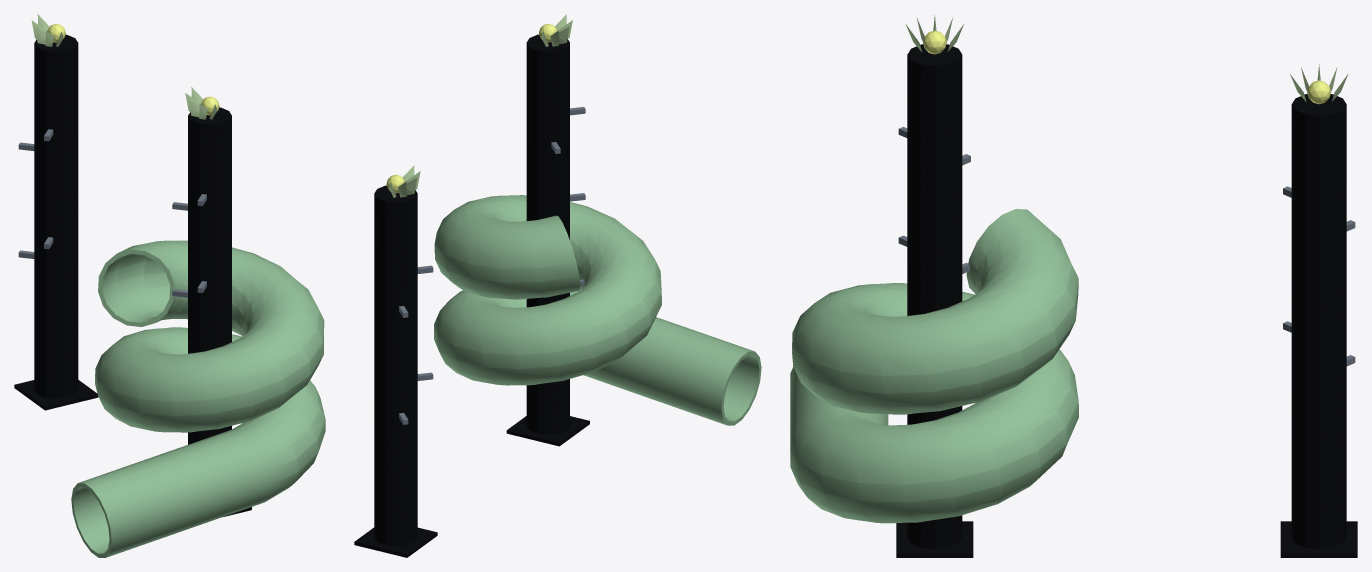
File: tt_leisure_slide_tubes_b.glb
The picture shows the model from 3 angles, left to right: view 1: azimuth 30°, elevation 25°; view 2: azimuth 150°, elevation 25°; view 3: azimuth 270°, elevation 25°; orthographic projection. The views are drawn at different scales.
Visible parts, largest first — view 1: Slide_Tube, Helix_TreeTrunk, Tube_Footplate, Helix_LeafCrown, Tube_HardwareArms, Helix_BallFinial; view 2: Slide_Tube, Helix_TreeTrunk, Tube_Footplate, Helix_LeafCrown, Tube_HardwareArms; view 3: Slide_Tube, Helix_TreeTrunk, Tube_Footplate, Helix_BallFinial, Helix_LeafCrown, Tube_HardwareArms.
Boxes of the visible parts, x1=… form: Slide_Tube: x1=71, y1=240, x2=325, y2=557; Helix_TreeTrunk: x1=34, y1=34, x2=231, y2=444; Tube_Footplate: x1=14, y1=380, x2=251, y2=517; Helix_LeafCrown: x1=31, y1=14, x2=216, y2=119; Tube_HardwareArms: x1=18, y1=129, x2=206, y2=297; Helix_BallFinial: x1=47, y1=24, x2=219, y2=115; Slide_Tube: x1=434, y1=195, x2=761, y2=425; Helix_TreeTrunk: x1=374, y1=34, x2=569, y2=546; Tube_Footplate: x1=354, y1=416, x2=589, y2=557; Helix_LeafCrown: x1=389, y1=14, x2=572, y2=197; Tube_HardwareArms: x1=399, y1=107, x2=585, y2=424; Slide_Tube: x1=790, y1=209, x2=1078, y2=523; Helix_TreeTrunk: x1=907, y1=44, x2=1346, y2=548; Tube_Footplate: x1=896, y1=521, x2=1357, y2=557; Helix_BallFinial: x1=923, y1=30, x2=1331, y2=104; Helix_LeafCrown: x1=905, y1=15, x2=1348, y2=101; Tube_HardwareArms: x1=898, y1=127, x2=1355, y2=366.
Size of what is drawn, in the model's own units: 3.42 by 5.17 by 5.17.
5 materials, 2 textured.
